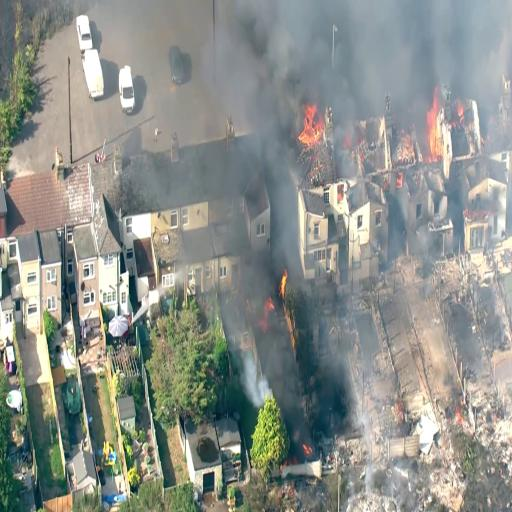fire: (295, 105, 329, 152), (427, 87, 446, 162)
smoke: (268, 0, 376, 89), (352, 0, 468, 65)
